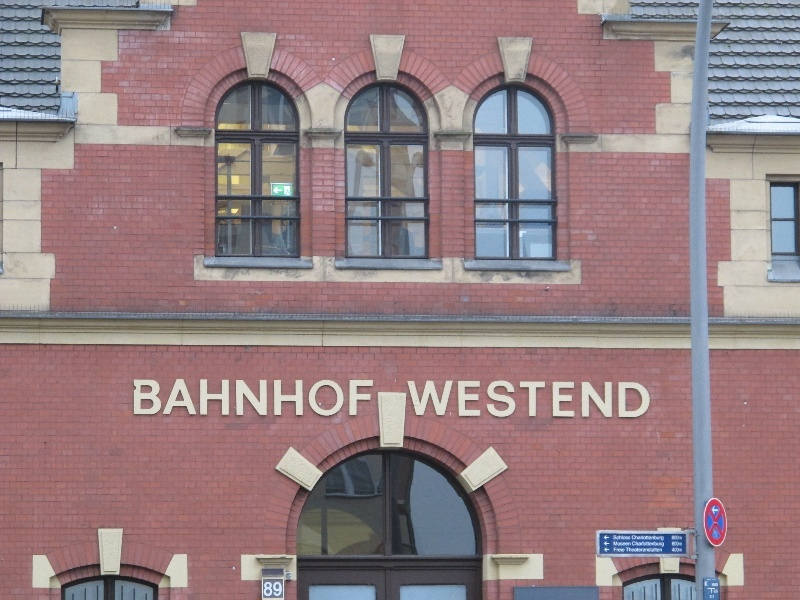text: (145, 379, 160, 419), (161, 379, 176, 419), (177, 379, 192, 419), (193, 379, 208, 419), (209, 379, 224, 419), (225, 379, 240, 419), (241, 379, 256, 419), (257, 379, 272, 419), (273, 379, 288, 419), (289, 379, 304, 419), (305, 379, 320, 419), (321, 379, 336, 419), (337, 379, 352, 419), (353, 379, 368, 419), (417, 381, 432, 419), (433, 381, 448, 419), (449, 381, 464, 419), (465, 381, 480, 419), (481, 381, 496, 419), (497, 381, 512, 419), (513, 381, 528, 419), (529, 381, 544, 419), (545, 381, 560, 419), (561, 381, 576, 419), (577, 381, 592, 419), (593, 381, 608, 419), (609, 381, 624, 419), (625, 381, 640, 419), (133, 379, 144, 419), (641, 381, 651, 419), (407, 381, 416, 419), (369, 379, 374, 419), (273, 582, 282, 597), (264, 582, 272, 597), (641, 535, 656, 541), (705, 581, 720, 587), (707, 588, 720, 594), (641, 542, 656, 547), (641, 548, 656, 552), (626, 548, 640, 552), (674, 548, 688, 552), (614, 548, 624, 553), (614, 535, 624, 540), (632, 535, 640, 541), (657, 535, 664, 541), (614, 542, 624, 546), (657, 542, 665, 547), (710, 595, 720, 599), (673, 536, 682, 540), (673, 542, 682, 546), (633, 542, 640, 547), (625, 535, 631, 540), (713, 583, 720, 587), (657, 548, 663, 552), (625, 542, 631, 546), (714, 590, 720, 593), (625, 548, 626, 553)
